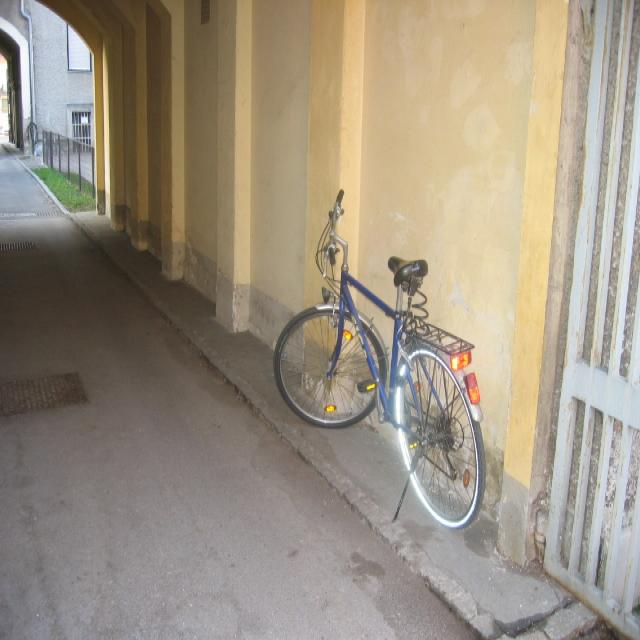bicycle: (272, 188, 486, 528)
